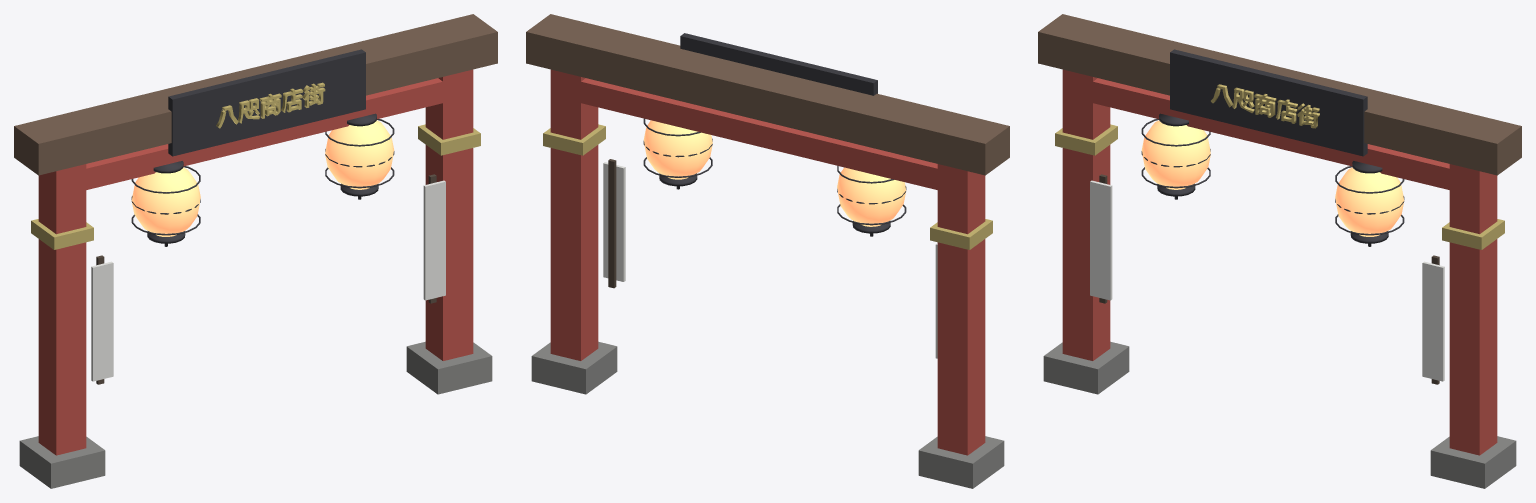
Rendered from prop_oomon.glb.
3 renders of one model, left to right at view 1: azimuth 30°, elevation 25°; view 2: azimuth 150°, elevation 25°; view 3: azimuth 330°, elevation 25°, orthographic.
Parts seen in each view (by area): view 1: oomon; view 2: oomon; view 3: oomon.
Part boxes in pixels (<box>): oomon: <box>14,14,497,488</box>; oomon: <box>526,14,1009,488</box>; oomon: <box>1038,14,1521,488</box>.
Bounding box in the file's own units: 7.6 × 5.65 × 1.15.
